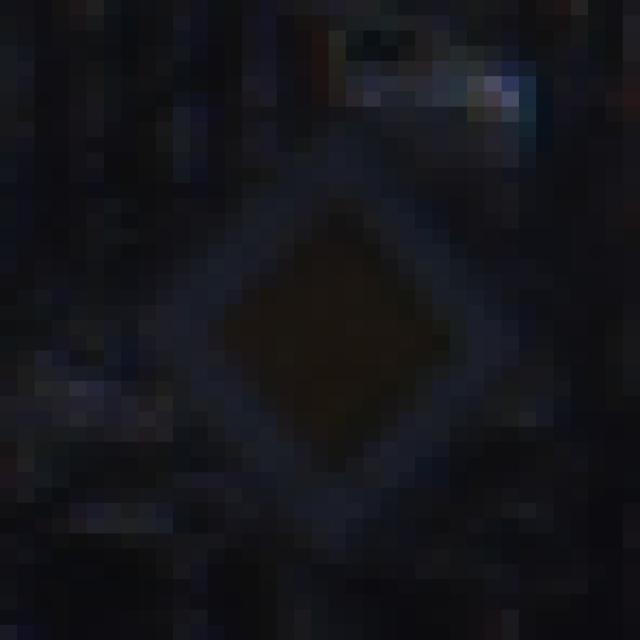Main Road: (88, 77, 555, 565)
